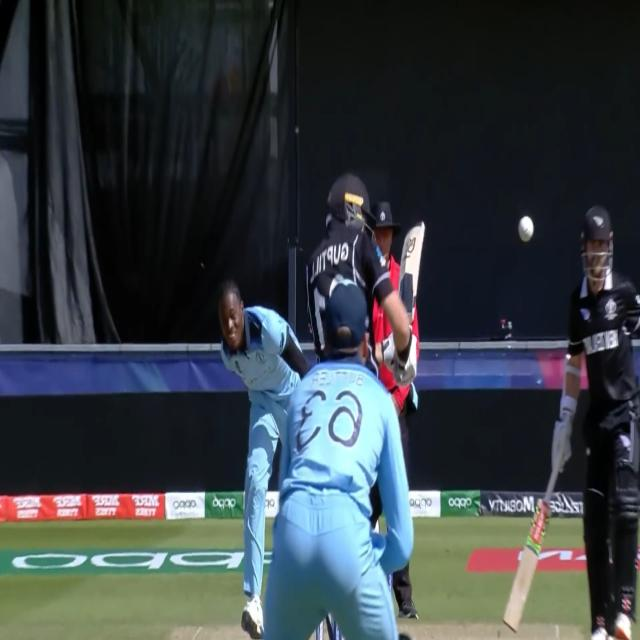ball: (512, 212, 540, 245)
